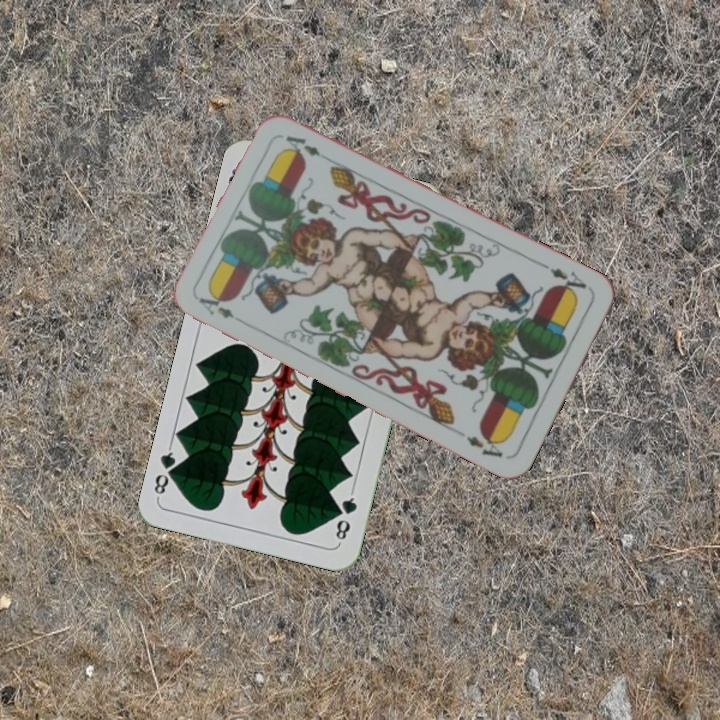EA: (539, 260, 590, 299), (194, 288, 237, 321)
G8: (331, 487, 360, 546)
